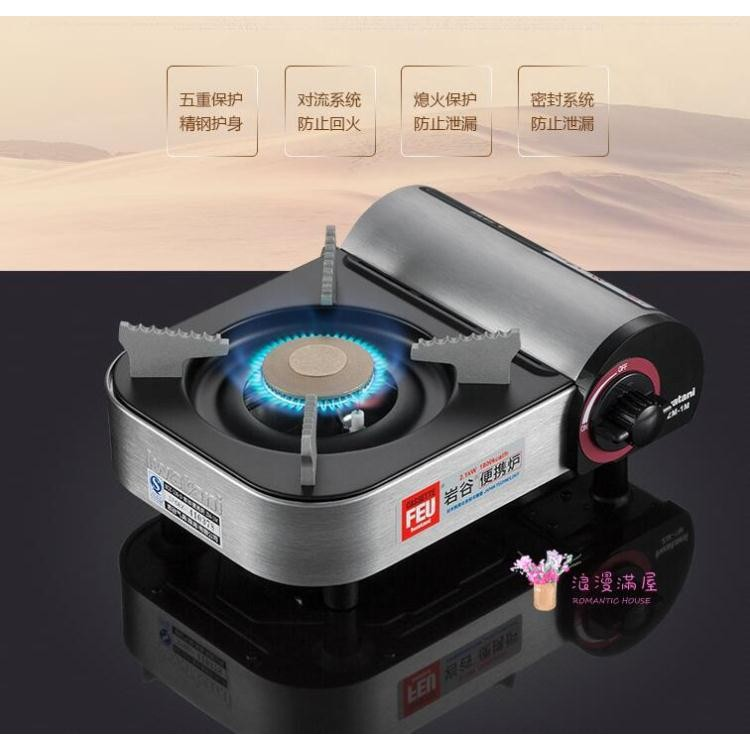gasoven: (104, 172, 707, 592)
